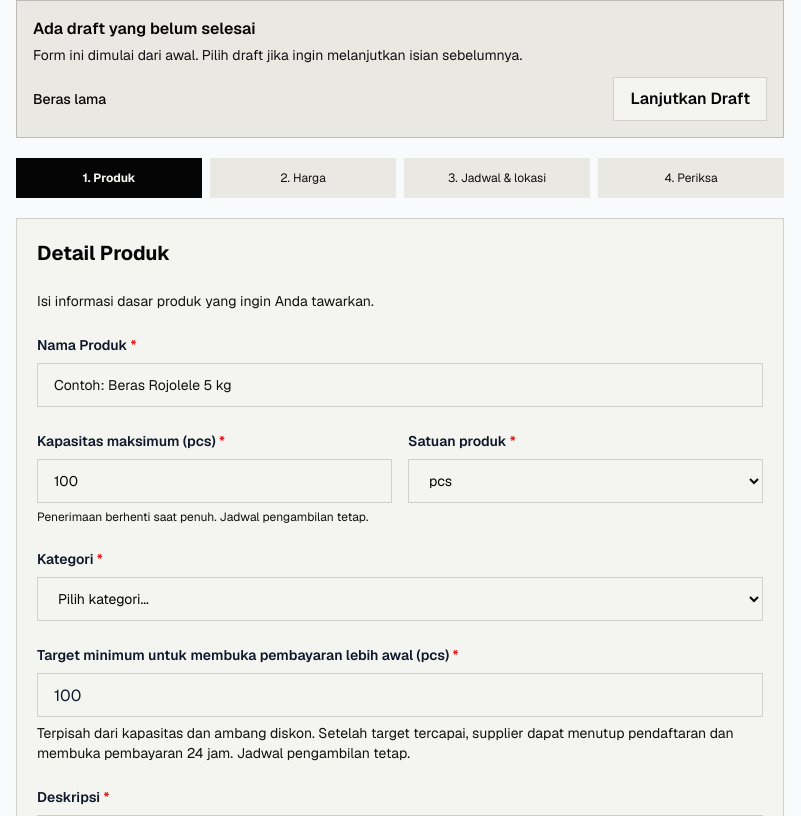
guided supplier offer › resumes a local draft only on request and retains its saving identity
Click the button "Lanjutkan Draft".
click(690, 99)  # box [613, 77, 767, 121]
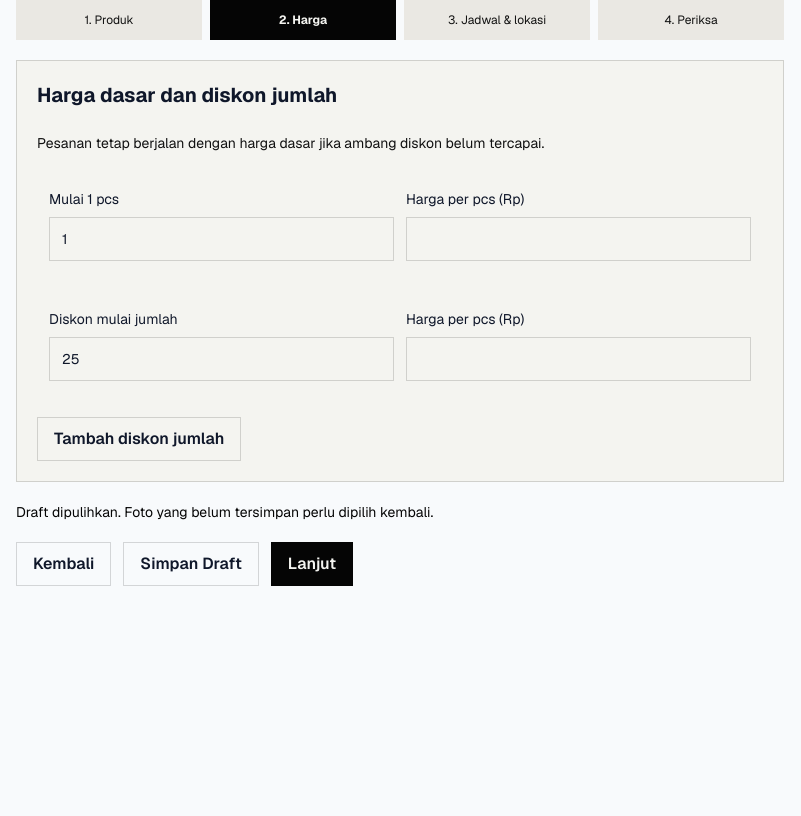
Expected: the list item "2. Harga" is shown, [210, 0, 396, 40]
Click the button "Simpan Draft".
click(191, 564)  # box [123, 542, 259, 586]
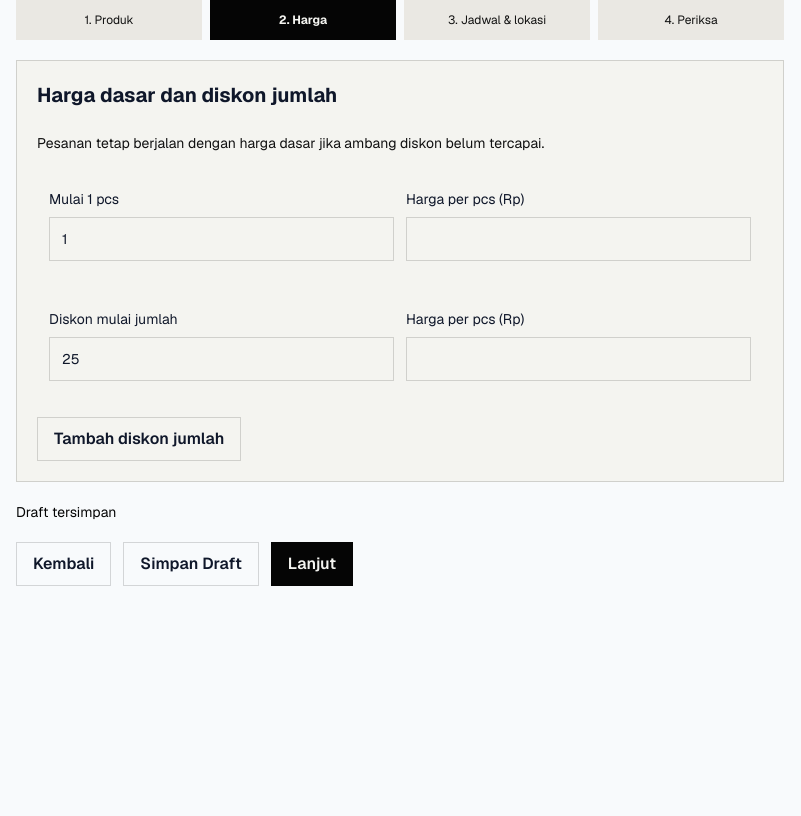
Result: the message reads "Draft tersimpan" at [16, 503, 116, 521]
